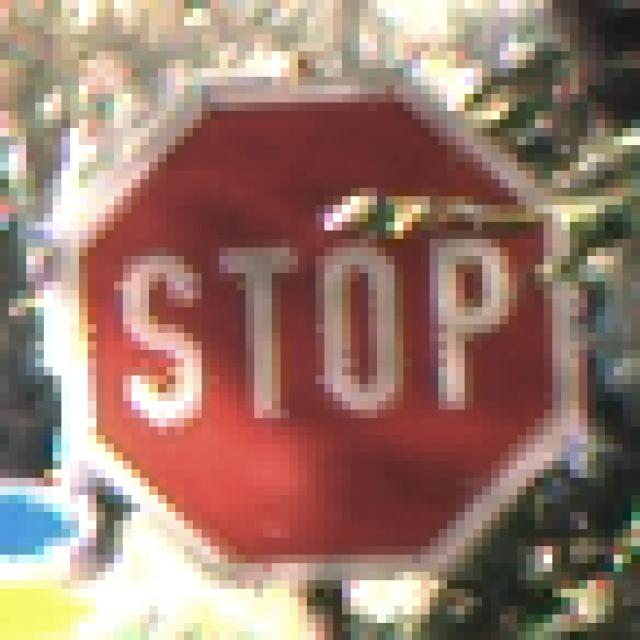STOP: (54, 61, 589, 590)
